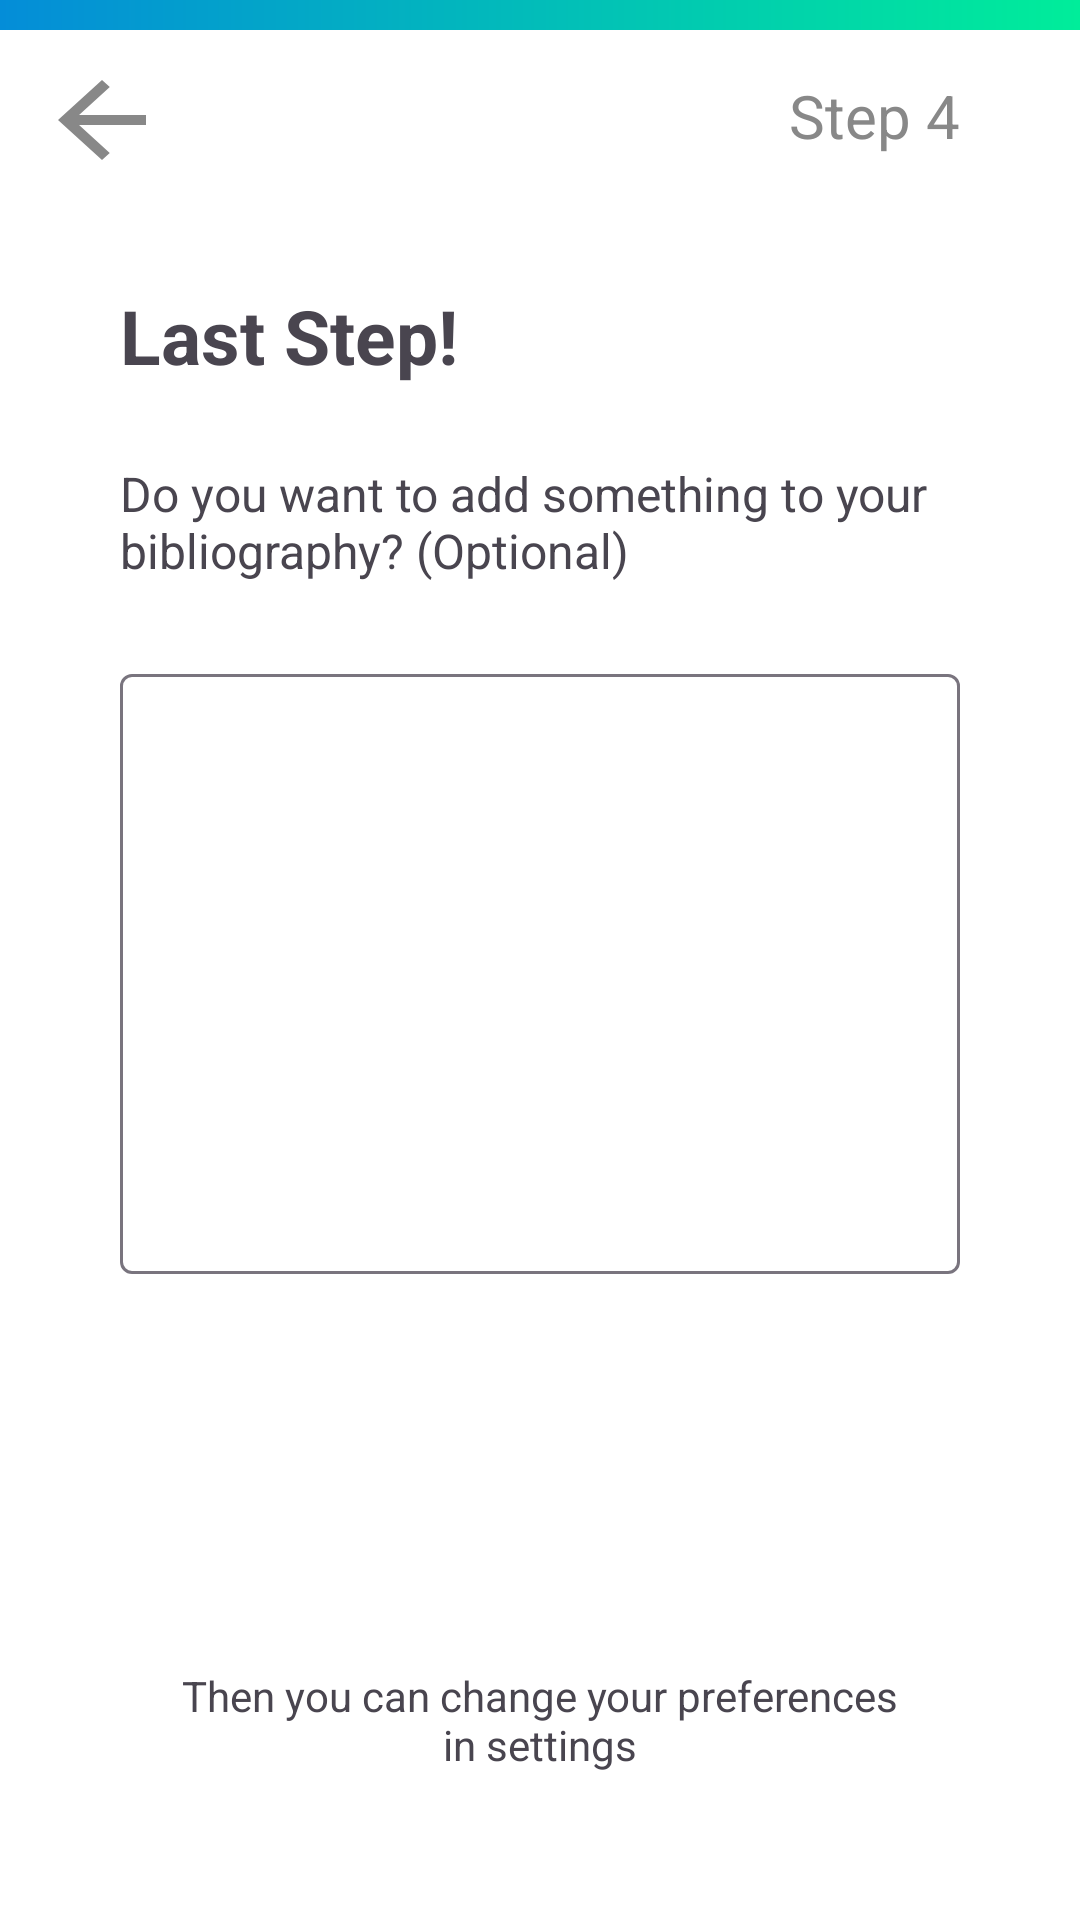

Screen size 1080×1920. Icon name, then its box in pixels as (x1, y1, x2, y2):
go back: (58, 80, 146, 160)
